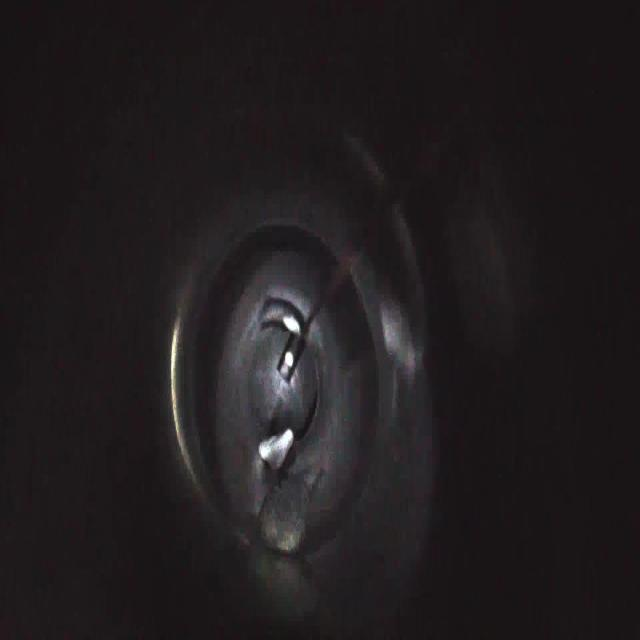impurity: (256, 478, 311, 558), (256, 427, 295, 474)
